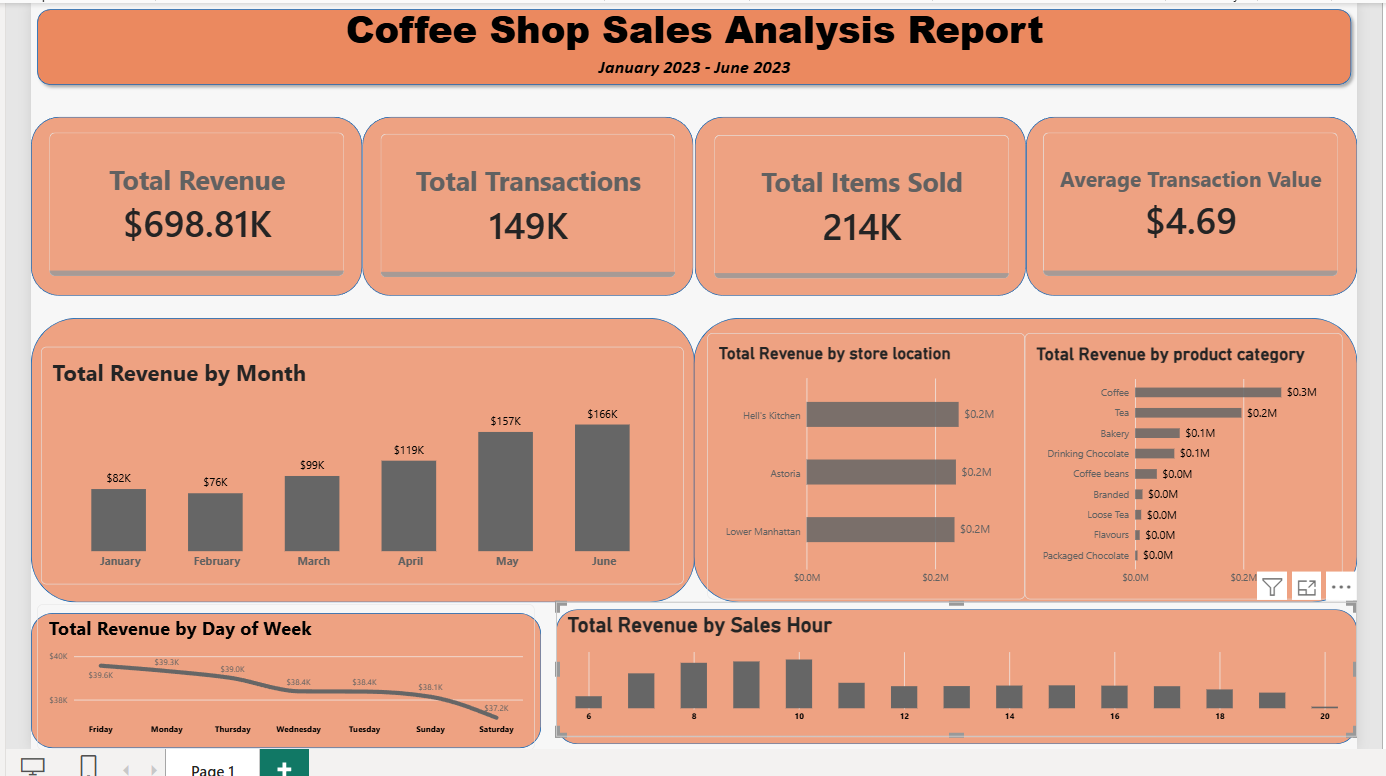

The page's visual inventory and layout, read from the dashboard file:
{"tool":"powerbi","page":{"name":"Page 1","canvas":[1920,1080],"ordinal":0},"visuals":[{"type":"shape","box":[0,0,1920.4,127.6],"z":0},{"type":"textbox","box":[249.1,0,1422.3,127.6],"z":1000},{"type":"shape","box":[0,456.1,961.2,411.7],"z":2000},{"type":"shape","box":[959.2,456.1,961.2,411.7],"z":3000},{"type":"shape","box":[0,164.7,479.6,259.3],"z":4000},{"type":"shape","box":[479.6,164.7,479.6,259.3],"z":5000},{"type":"shape","box":[961.2,164.7,479.6,259.3],"z":6000},{"type":"shape","box":[1440.8,164.7,479.6,259.3],"z":7000},{"type":"cardVisual","fields":{"Data":["Transaction_coffee_shop_sales.Total Revenue"]},"box":[0,181.1,479.6,220.2],"z":8000},{"type":"cardVisual","fields":{"Data":["Transaction_coffee_shop_sales.Total Transactions"]},"box":[479.6,183.2,479.6,220.2],"z":9000},{"type":"cardVisual","fields":{"Data":["Transaction_coffee_shop_sales.Total Items Sold"]},"box":[963.3,185.2,479.6,220.2],"z":10000},{"type":"cardVisual","fields":{"Data":["Transaction_coffee_shop_sales.Average Transaction Value"]},"box":[1438.8,181.1,479.6,220.2],"z":11000},{"type":"columnChart","fields":{"Category":["Transaction_coffee_shop_sales.transaction_date_clean.Variation.Date Hierarchy.Month"],"Y":["Transaction_coffee_shop_sales.Total Revenue"]},"box":[14.4,498.1,930.4,343.7],"z":12000},{"type":"clusteredColumnChart","fields":{"Y":["Transaction_coffee_shop_sales.Total Revenue"],"Category":["Transaction_coffee_shop_sales.Sales Hour"]},"box":[760.1,866.8,1160.6,196],"z":13000},{"type":"shape","box":[0,882.6,738.6,195.7],"z":14000},{"type":"barChart","title":"Total Revenue by store location","fields":{"Category":["Transaction_coffee_shop_sales.store_location"],"Y":["Transaction_coffee_shop_sales.Total Revenue"]},"box":[979,477.8,460.3,385.4],"z":15000},{"type":"lineChart","fields":{"Category":["Transaction_coffee_shop_sales.Day of Week"],"Y":["Transaction_coffee_shop_sales.Total Revenue"]},"box":[9.2,869.7,720.2,211.4],"z":16000},{"type":"barChart","title":"Total Revenue by product category","fields":{"Y":["Transaction_coffee_shop_sales.Total Revenue"],"Category":["Transaction_coffee_shop_sales.product_category"]},"box":[1438.4,478.2,460.3,385.4],"z":17000},{"type":"shape","box":[760.1,877.7,1160,195.4],"z":18000}]}

Visuals, with their boxes in screenshot pixels (x1, y1, x2, y2):
shape: (36,4,1349,91)
textbox: (206,4,1178,91)
shape: (36,315,693,597)
shape: (692,315,1349,597)
shape: (36,116,364,293)
shape: (364,116,692,293)
shape: (693,116,1021,293)
shape: (1021,116,1349,293)
cardVisual - Transaction_coffee_shop_sales.Total Revenue: (36,127,364,278)
cardVisual - Transaction_coffee_shop_sales.Total Transactions: (364,129,692,279)
cardVisual - Transaction_coffee_shop_sales.Total Items Sold: (694,130,1022,281)
cardVisual - Transaction_coffee_shop_sales.Average Transaction Value: (1019,127,1347,278)
columnChart - Transaction_coffee_shop_sales.transaction_date_clean.Variation.Date Hierarchy.Month x Transaction_coffee_shop_sales.Total Revenue: (46,344,682,579)
clusteredColumnChart - Transaction_coffee_shop_sales.Total Revenue x Transaction_coffee_shop_sales.Sales Hour: (556,596,1349,730)
shape: (36,607,541,741)
"Total Revenue by store location" barChart: (705,330,1020,594)
lineChart - Transaction_coffee_shop_sales.Day of Week x Transaction_coffee_shop_sales.Total Revenue: (42,598,535,743)
"Total Revenue by product category" barChart: (1019,330,1334,594)
shape: (556,604,1348,737)
